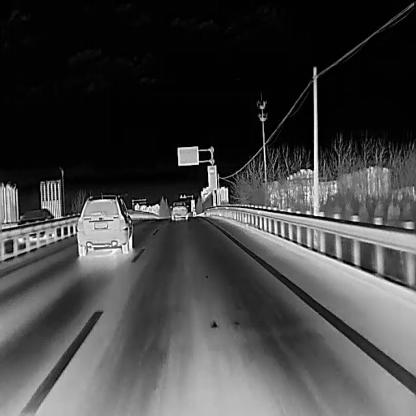car: (75, 192, 132, 255), (16, 206, 56, 242), (170, 200, 187, 219)
